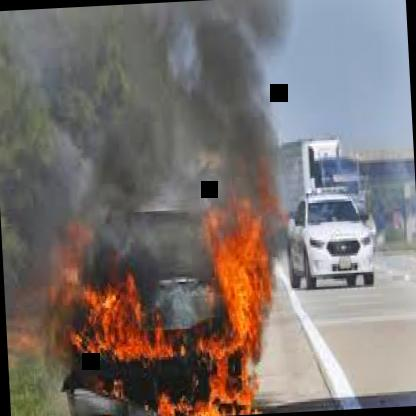fire: (56, 193, 271, 416)
